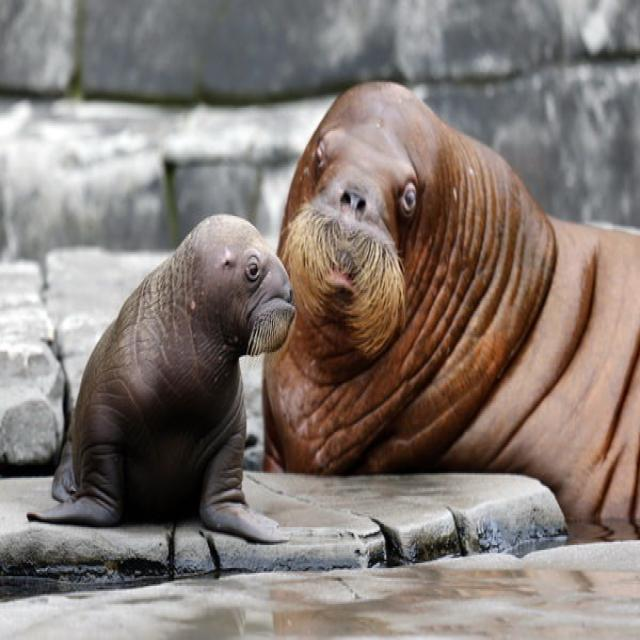walrus: (293, 74, 606, 541), (41, 122, 282, 541)
